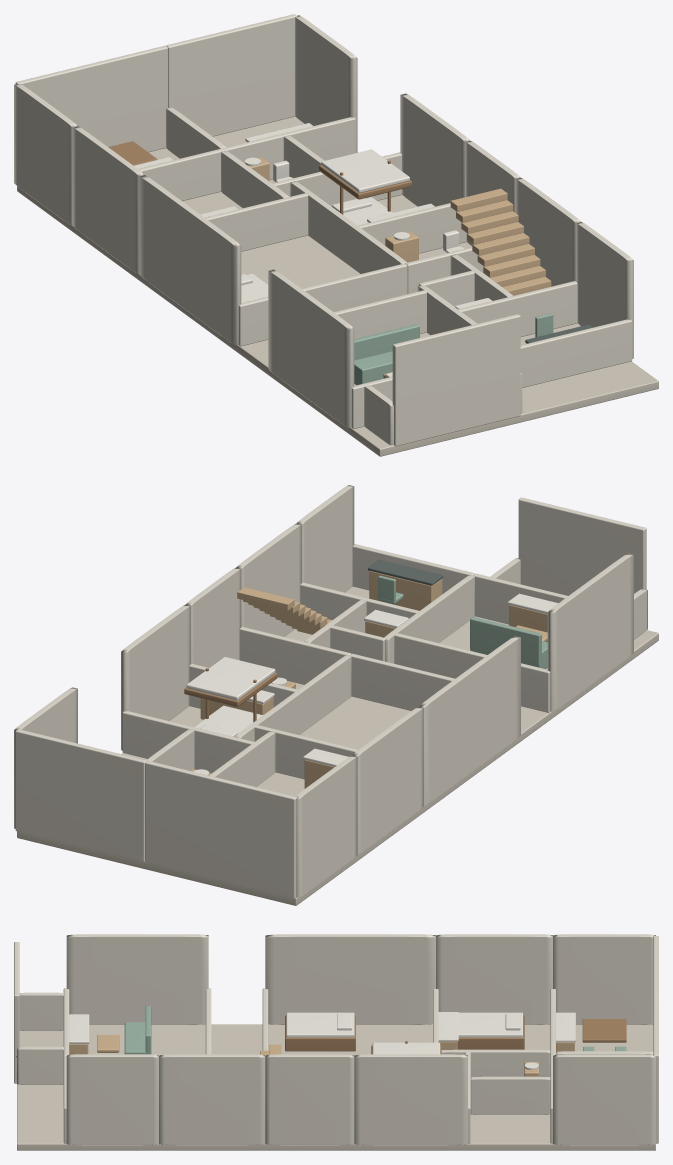
File: floor-2.glb
3 views of the same model, one above another, from view 1: azimuth 30°, elevation 25°; view 2: azimuth 150°, elevation 25°; view 3: azimuth 270°, elevation 25° (orthographic). The views are drawn at different scales.
Parts seen in each view (by area): view 1: F2_Slab, F2_Wall_013, F2_Wall_022, F2_Wall_003, F2_Wall_011, F2_Wall_000, F2_Wall_005, F2_Wall_008, F2_Wall_044, F2_Wall_045, F2_Wall_041, F2_Wall_025 (+41 smaller); view 2: F2_Wall_011, F2_Wall_022, F2_Wall_003, F2_Slab, F2_Wall_000, F2_Wall_013, F2_Wall_005, F2_Wall_008, F2_Wall_044, F2_Wall_041, F2_Wall_042, F2_Wall_043 (+31 smaller); view 3: F2_Slab, F2_Wall_003, F2_Wall_000, F2_Wall_044, F2_Wall_042, F2_Wall_005, F2_Wall_045, F2_Wall_008, F2_Wall_041, F2_Wall_043, F2_Wall_036, F2_Wall_016 (+23 smaller).
Part boxes in pixels (x1,y1,x2,y2): F2_Slab: [17, 116, 658, 456]; F2_Wall_013: [392, 314, 520, 446]; F2_Wall_022: [166, 14, 296, 136]; F2_Wall_003: [139, 175, 241, 345]; F2_Wall_011: [15, 45, 167, 152]; F2_Wall_000: [268, 269, 354, 427]; F2_Wall_005: [72, 126, 143, 274]; F2_Wall_008: [14, 84, 77, 225]; F2_Wall_044: [400, 93, 469, 206]; F2_Wall_045: [295, 15, 357, 152]; F2_Wall_041: [576, 222, 633, 358]; F2_Wall_025: [520, 319, 632, 387]; F2_Wall_011: [145, 760, 297, 898]; F2_Wall_022: [15, 729, 146, 862]; F2_Wall_003: [419, 636, 520, 806]; F2_Slab: [17, 586, 658, 905]; F2_Wall_000: [547, 553, 633, 711]; F2_Wall_013: [518, 497, 646, 595]; F2_Wall_005: [352, 707, 423, 854]; F2_Wall_008: [295, 755, 357, 897]; F2_Wall_044: [121, 604, 190, 750]; F2_Wall_041: [296, 485, 354, 592]; F2_Wall_042: [236, 523, 301, 636]; F2_Wall_043: [186, 568, 241, 667]; F2_Slab: [17, 1024, 655, 1150]; F2_Wall_003: [265, 934, 435, 1024]; F2_Wall_000: [66, 934, 208, 1024]; F2_Wall_044: [354, 1054, 467, 1145]; F2_Wall_042: [159, 1054, 265, 1145]; F2_Wall_005: [436, 934, 552, 1024]; F2_Wall_045: [553, 1054, 655, 1145]; F2_Wall_008: [553, 934, 655, 1024]; F2_Wall_041: [66, 1054, 158, 1145]; F2_Wall_043: [265, 1054, 354, 1145]; F2_Wall_036: [470, 1076, 550, 1115]; F2_Wall_016: [441, 1049, 550, 1077].
Bounding box in the file's own units: 8.16 × 2.97 × 18.16.
